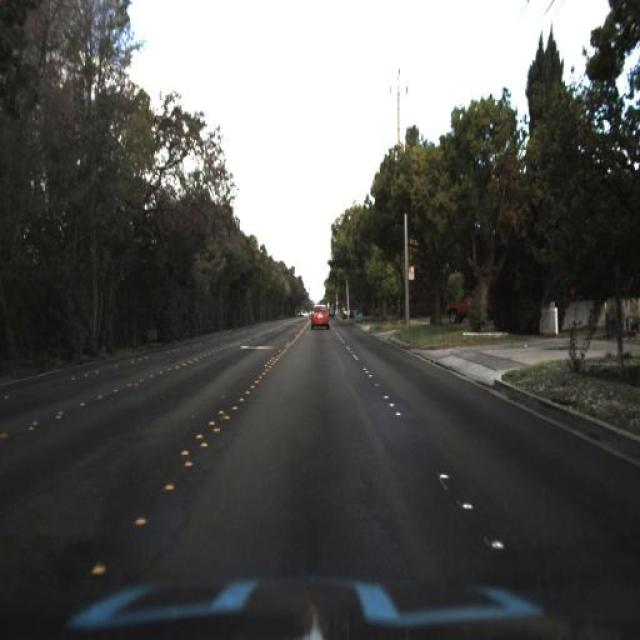car: (444, 287, 494, 328), (442, 290, 477, 330), (306, 296, 333, 340)
